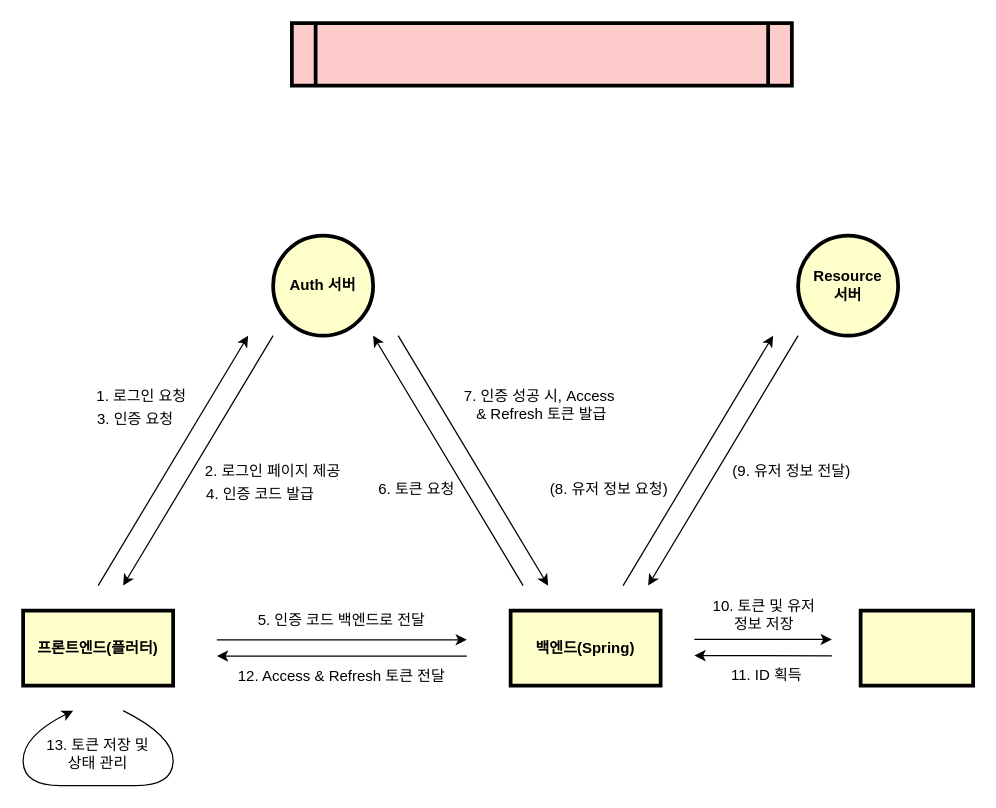
This 996x808 diagram has some shape labels left out. Here are the shapes that lost their labels. From the top down, the centre of each, then its label:
At pixel 541 54: "Social login Progress(OAuth2.0)".
At pixel 916 647: "Maria DB".
